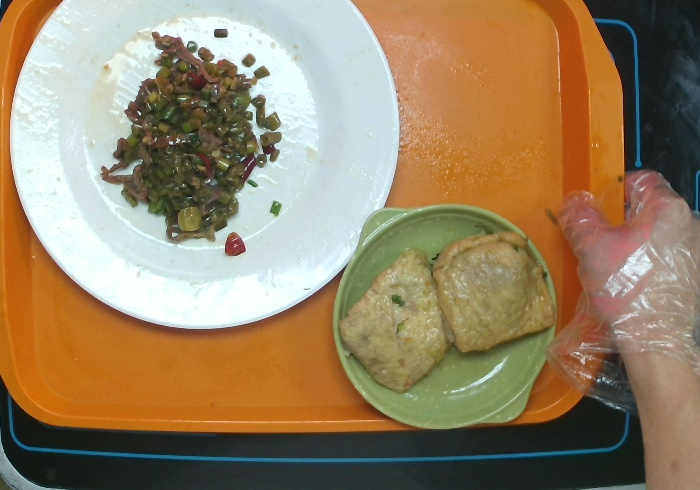NLDX-Da_Yuan_Pan: (8, 2, 402, 333)
NLDX-Lv_Hua_Shuang_Er_Die: (330, 200, 560, 435)
